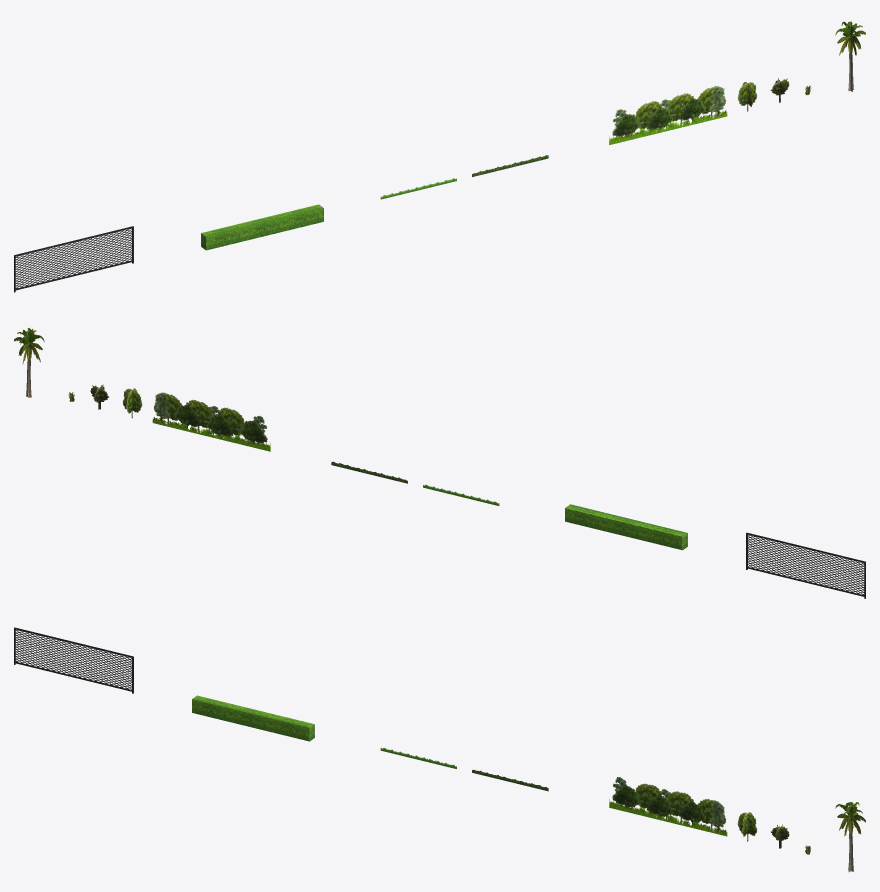
Rendered from trees.FBX.
3 renders of one model, top to bottom at view 1: azimuth 30°, elevation 25°; view 2: azimuth 150°, elevation 25°; view 3: azimuth 330°, elevation 25°, orthographic.
Visible parts, largest first — view 1: grill, treess, barrr, plame tree; view 2: grill, treess, barrr, plame tree; view 3: grill, treess, barrr, plame tree.
Boxes of the visible parts, x1,y1,x2,y2 form: grill: (14,226,133,292); treess: (609,86,727,144); barrr: (201,204,323,250); plame tree: (835,21,865,91); grill: (746,532,865,598); treess: (152,392,270,451); barrr: (565,504,687,550); plame tree: (14,328,44,397); grill: (14,627,133,693); treess: (609,777,727,836); barrr: (192,695,314,741); plame tree: (835,802,865,871).
Size of the model in its own units: 35061 by 2747 by 1259.
